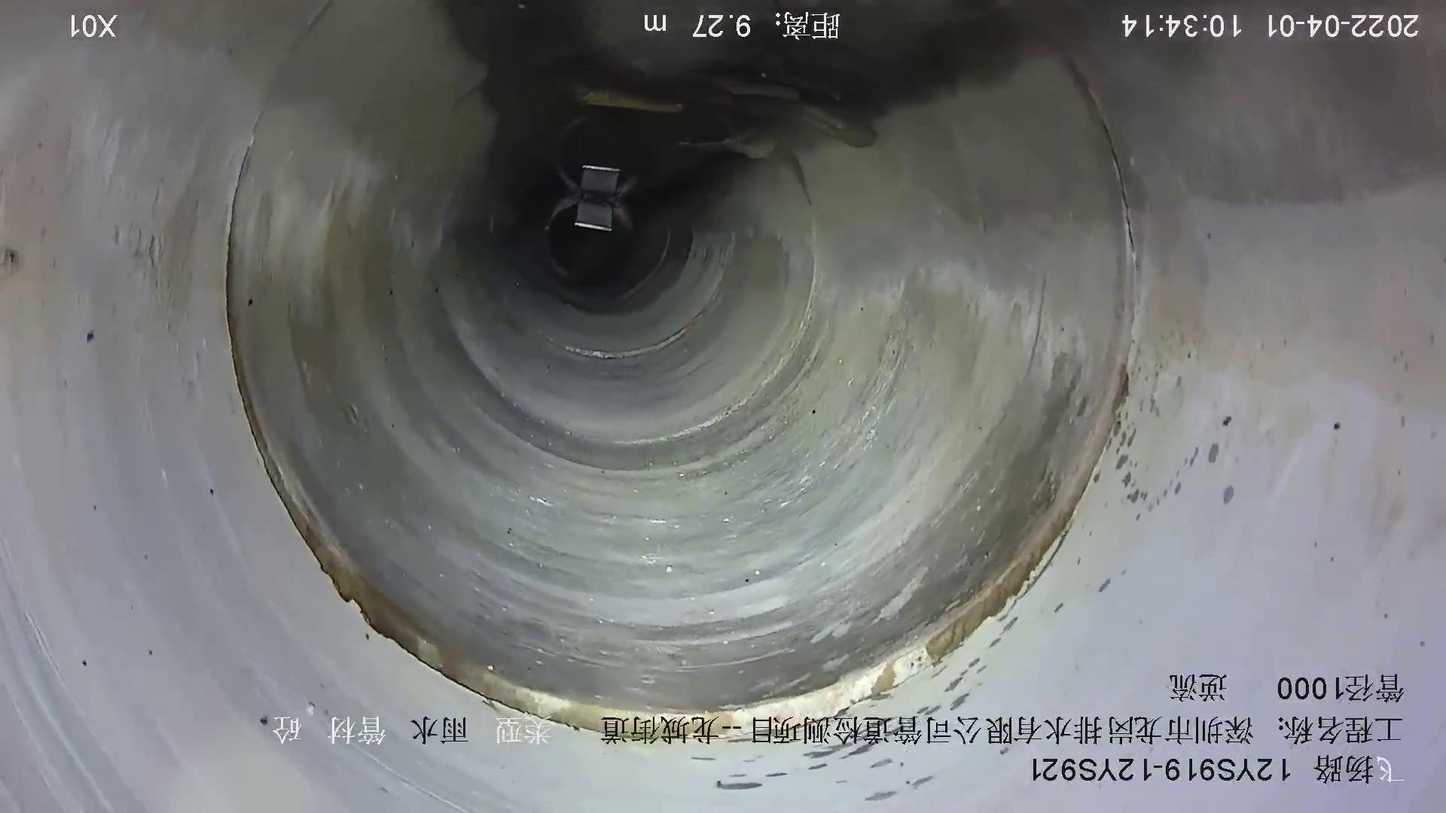CJ: (487, 1, 1022, 158)
CKTJ: (224, 136, 1129, 744), (528, 306, 712, 363)
